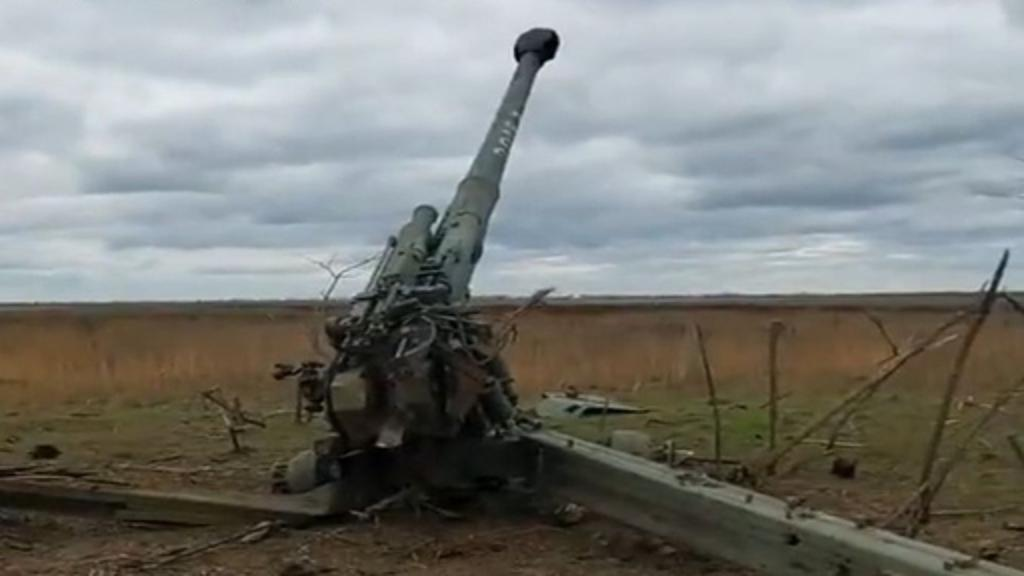ART: (274, 22, 580, 530)
